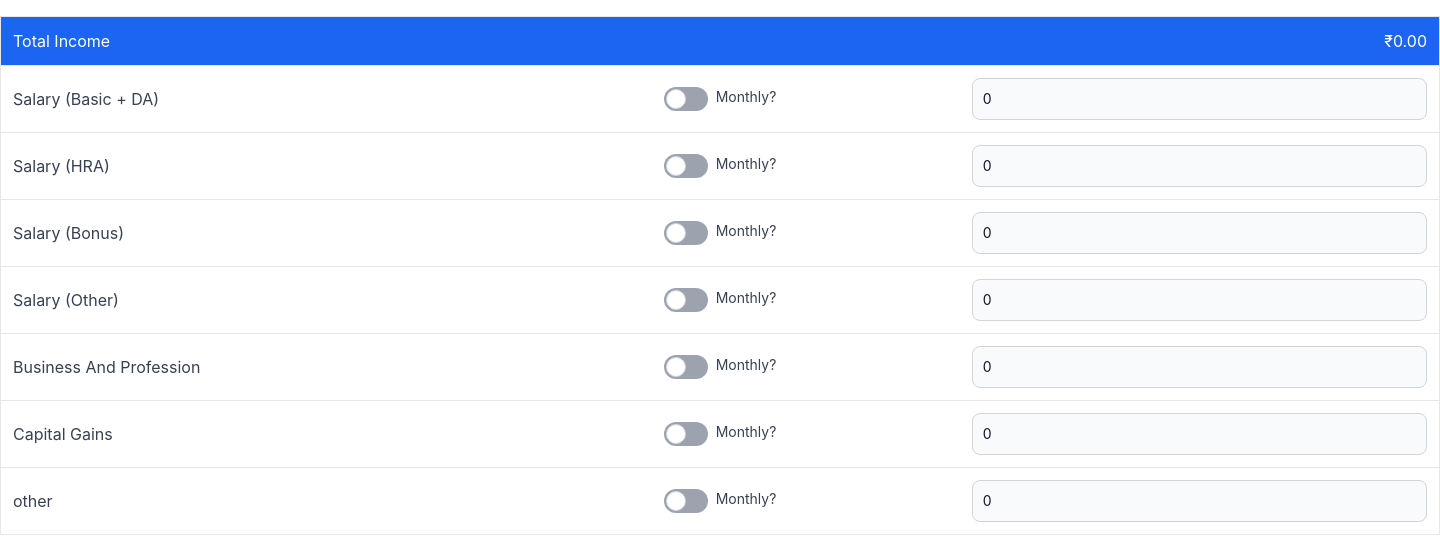
it: <IncomeTab /> › change field values
The image size is (1440, 552).
Click the checkbox labelled "Monthly?" in the row of "Salary (Basic + DA)" at (720, 99), box x1=664 y1=87 x2=776 y2=111
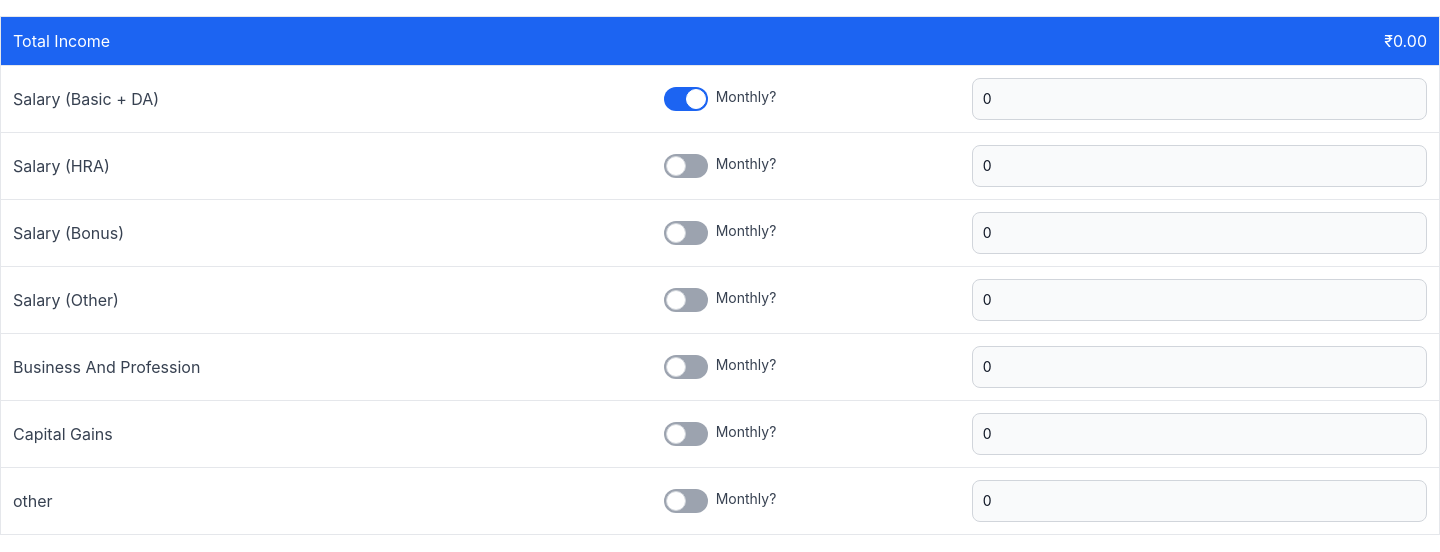
Type "1000" into the field in the row of "Salary (Basic + DA)" at (1199, 99), box x1=972 y1=78 x2=1427 y2=120
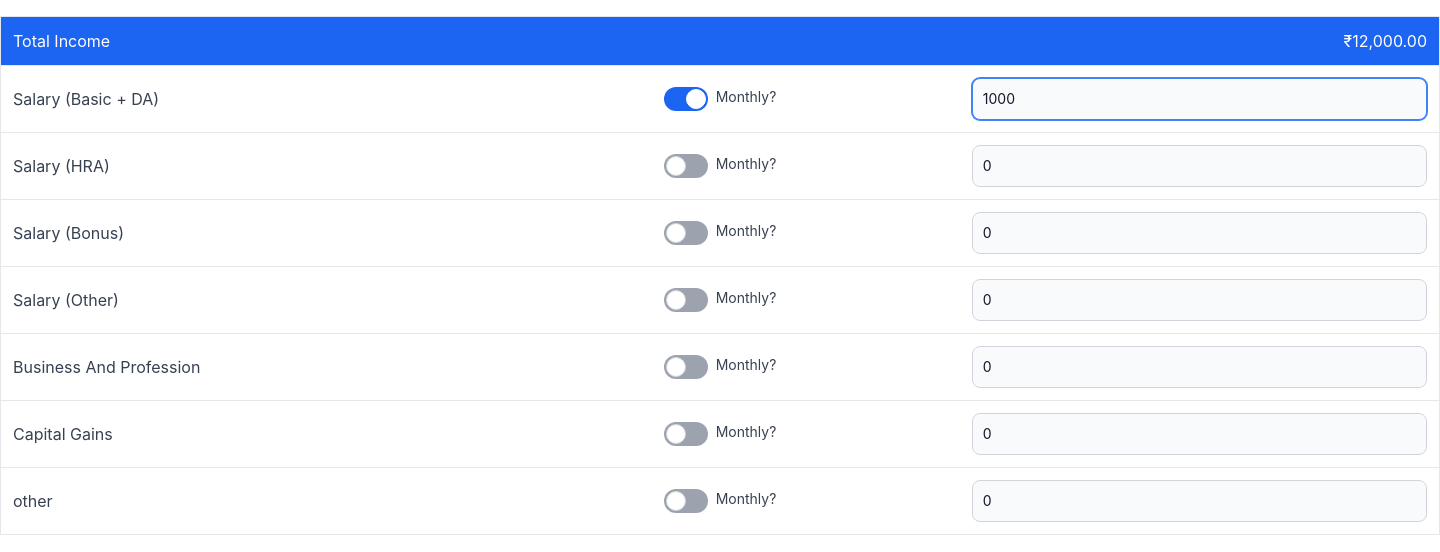
Expected: the cell named "Total income" reads "₹12,000.00", x1=1344 y1=31 x2=1427 y2=51
